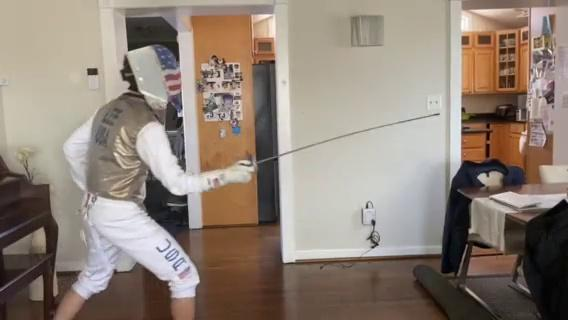blade-guard: (250, 153, 259, 177)
blade-tip: (399, 112, 441, 127)
fencing-blade: (235, 111, 442, 181)
